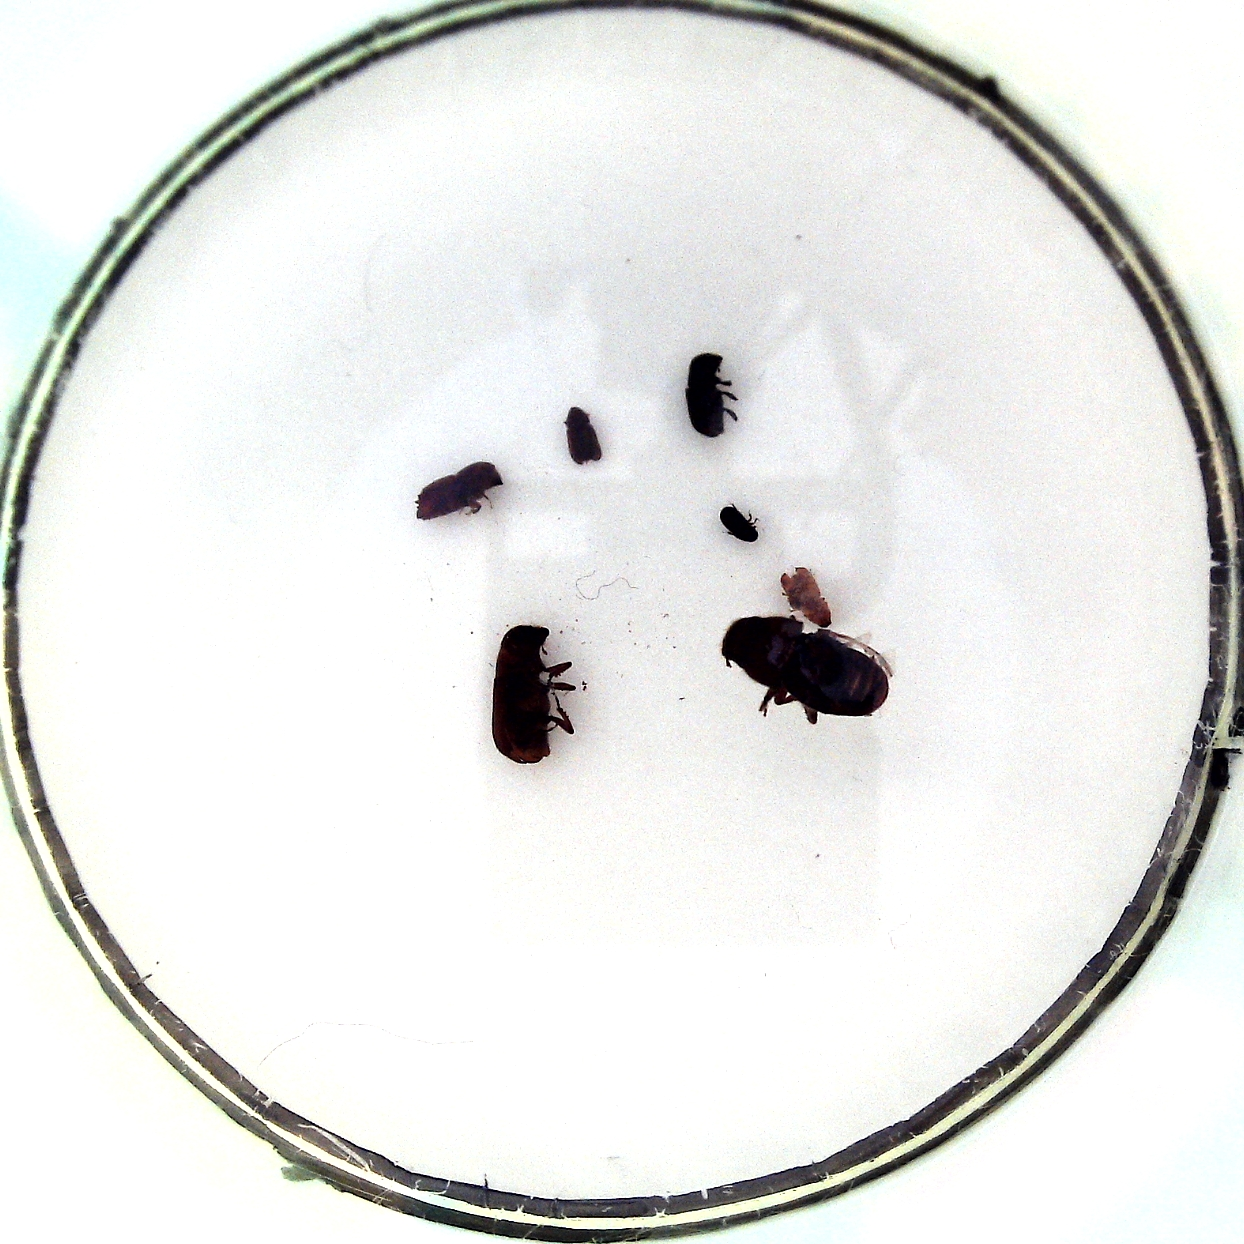Leconte: (722, 617, 889, 717), (491, 624, 551, 764)
acuminatus: (719, 506, 758, 542)
armandi: (686, 354, 725, 437)
coleoptera: (780, 567, 833, 628), (566, 407, 601, 465)
linnaeus: (414, 461, 504, 519)
